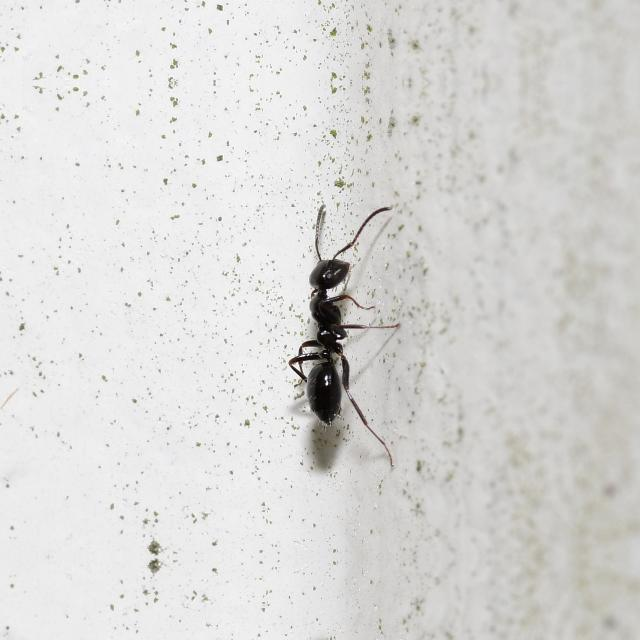Colobopsis: (264, 221, 394, 437)
